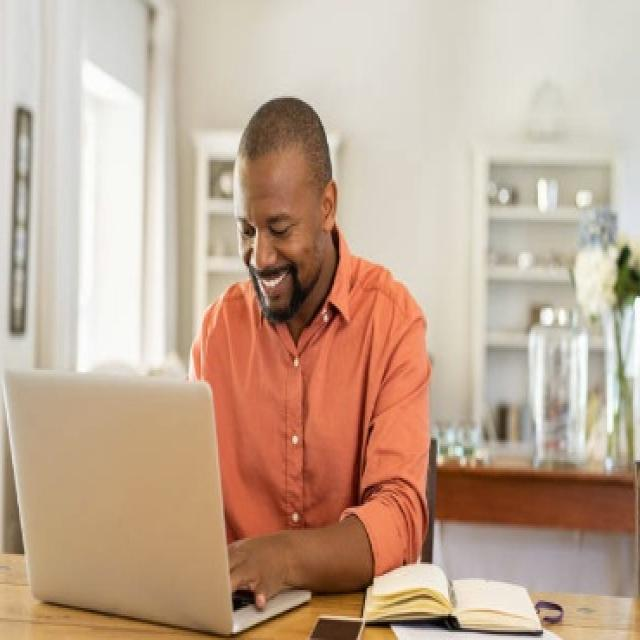adult: (207, 93, 441, 602)
